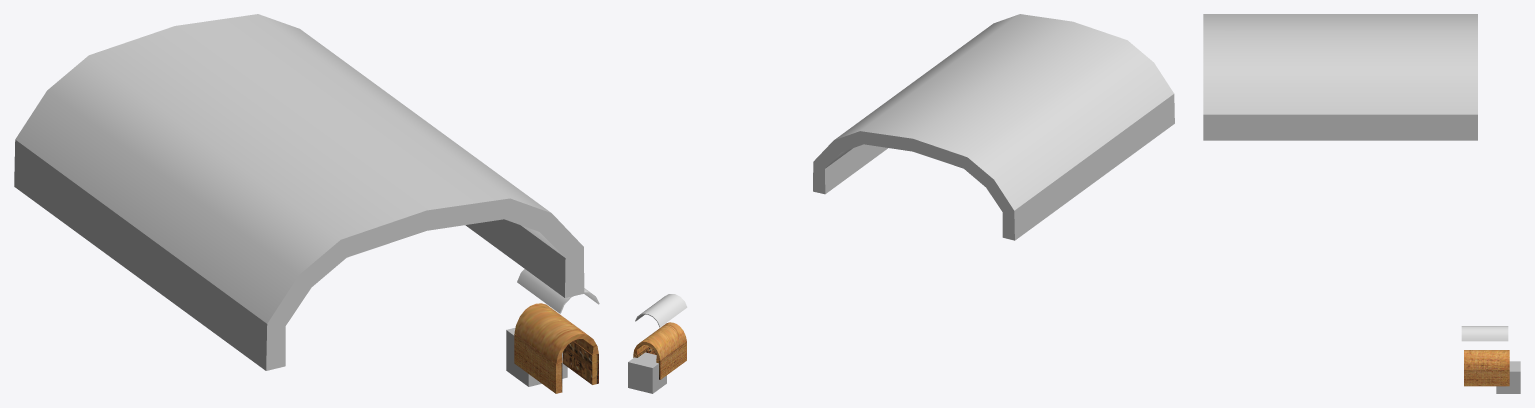
File: ROOF.fbx
3 views of the same model, side by side, from view 1: azimuth 30°, elevation 25°; view 2: azimuth 150°, elevation 25°; view 3: azimuth 270°, elevation 25° (orthographic). The views are drawn at different scales.
Visible parts, largest first — view 1: Circle.001, Cylinder, Cube.001, Cube.002, Circle, Cube; view 2: Circle.001, Cube, Cylinder, Circle, Cube.001; view 3: Circle.001, Cylinder, Cube.002, Circle, Cube.
Boxes of the visible parts, box(x1,y1,x2,y2) form: Circle.001: box(14, 14, 584, 370); Cylinder: box(514, 303, 598, 363); Cube.001: box(514, 333, 562, 393); Cube.002: box(563, 341, 598, 384); Circle: box(517, 269, 599, 313); Cube: box(506, 327, 567, 386); Circle.001: box(813, 14, 1174, 240); Cube: box(628, 352, 666, 393); Cylinder: box(633, 322, 686, 360); Circle: box(635, 294, 687, 327); Cube.001: box(656, 341, 686, 379); Circle.001: box(1203, 14, 1477, 140); Cylinder: box(1464, 350, 1509, 369); Cube.002: box(1464, 370, 1509, 386); Circle: box(1461, 326, 1508, 341); Cube: box(1496, 361, 1520, 393).
Bounding box in the file's own units: 2938 × 2276 × 2591.
